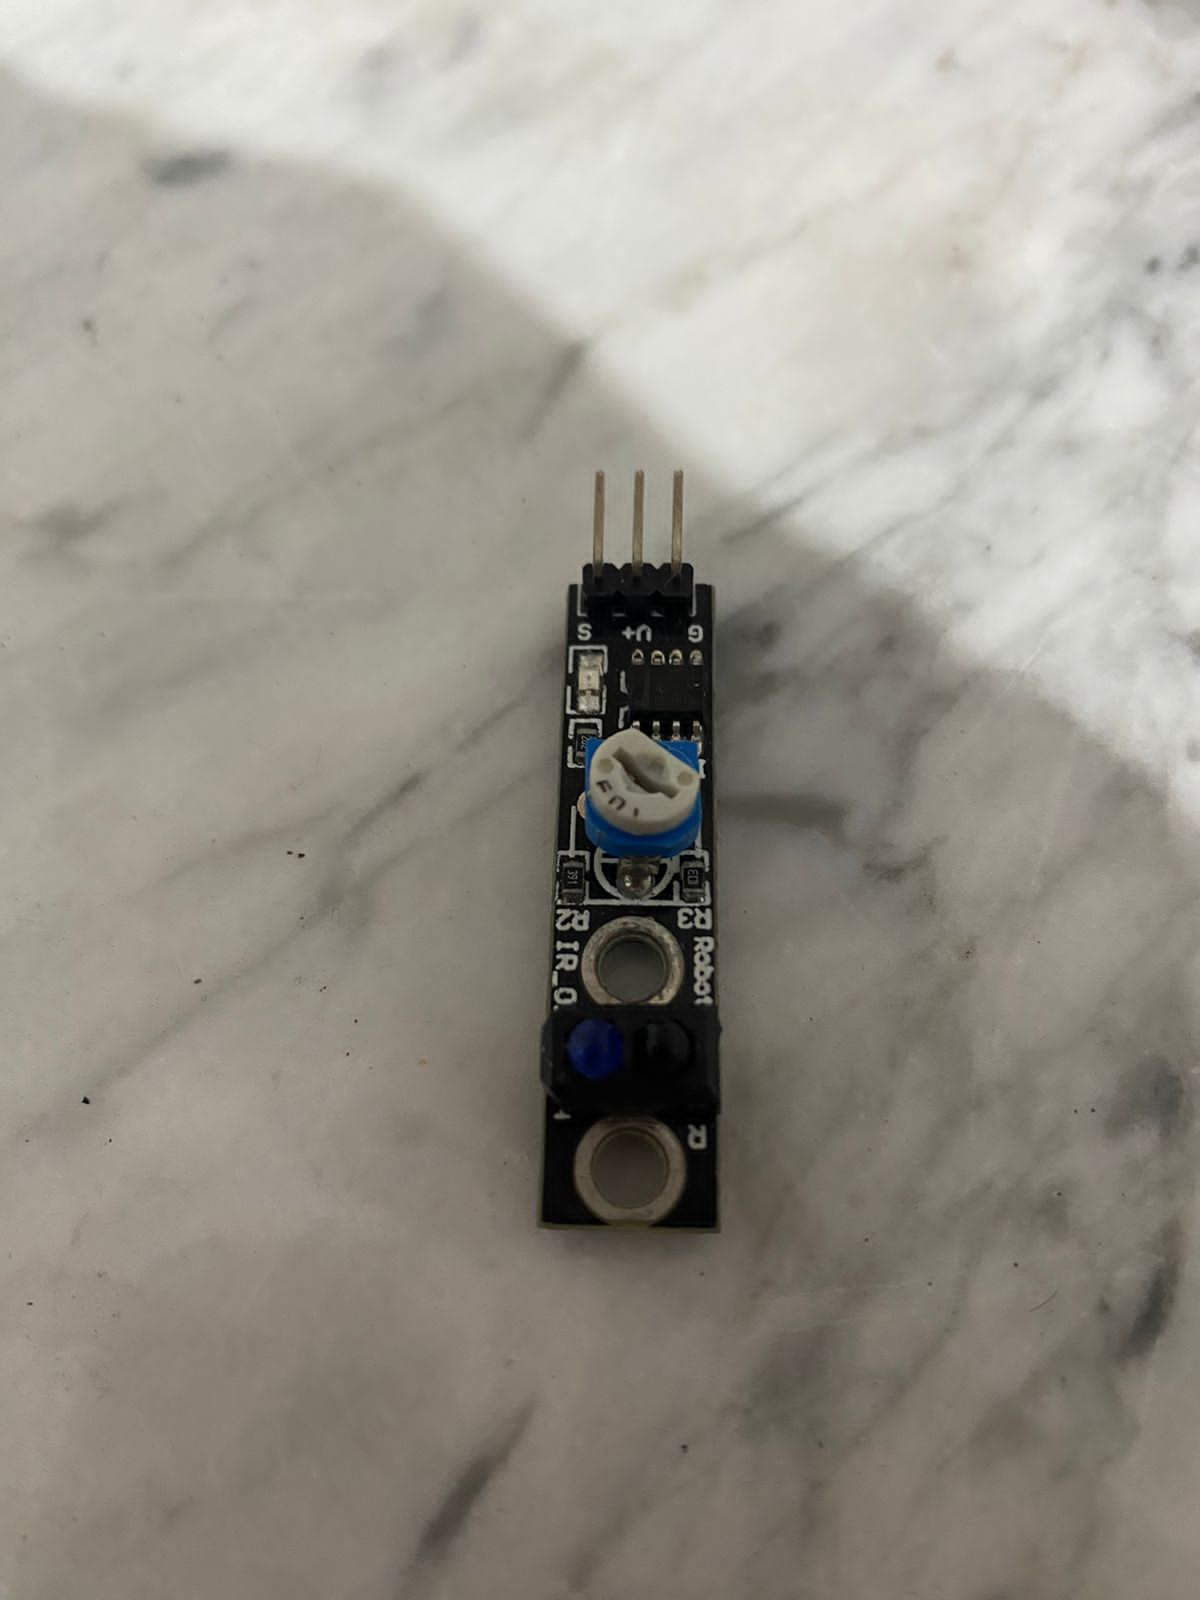ir-sensor: (516, 467, 751, 1233)
